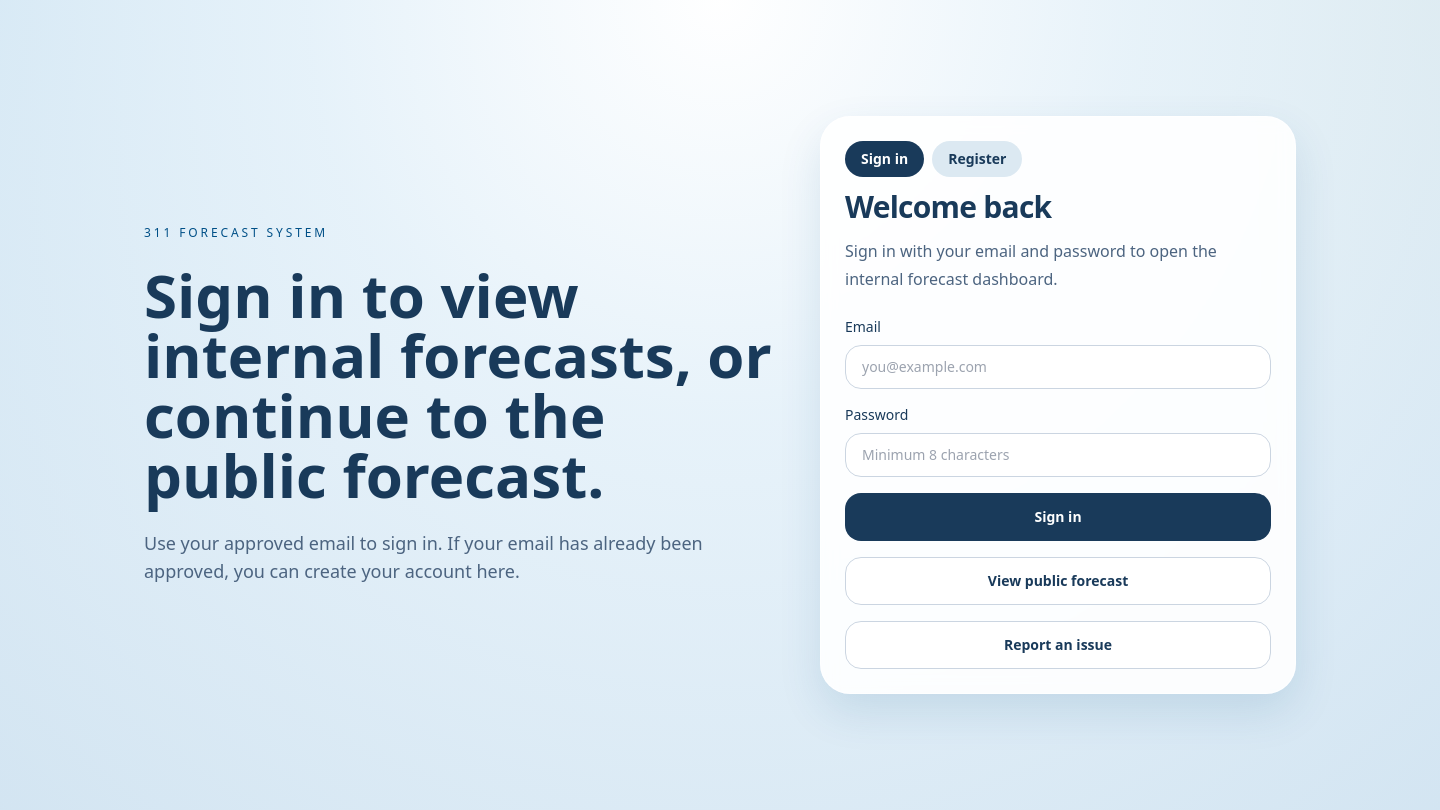
Test: App › clears auth errors when switching between sign in and register
The width and height of the screenshot is (1440, 810).
Expected: the heading "Sign in to view internal forecasts" is shown, [144,265,788,505]
In the field with placeholder "you@example.com": (1058, 367) [845,345,1271,389], type "planner@example.com"
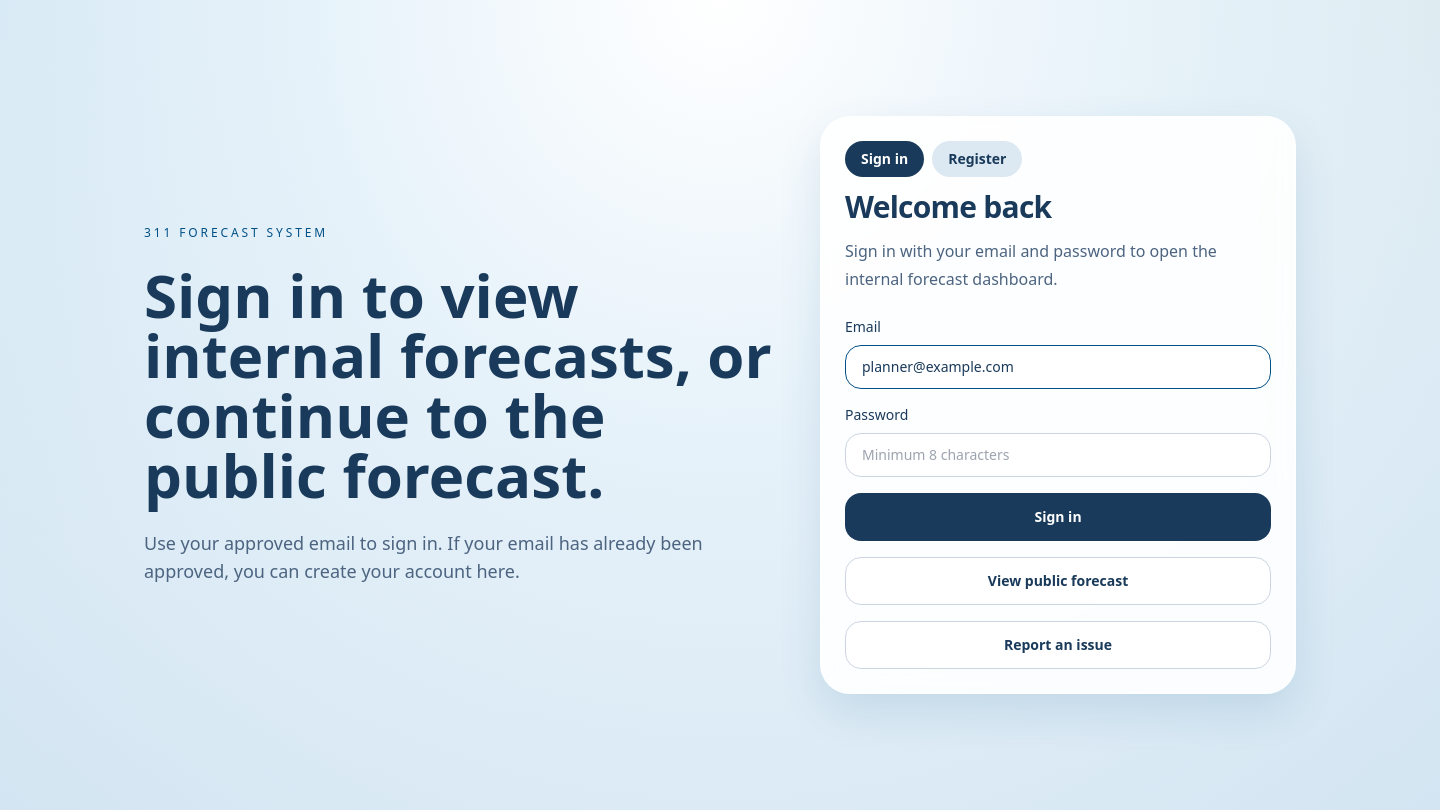
In the password field with placeholder "Minimum 8 characters": (1058, 455) [845,433,1271,477], type "short"
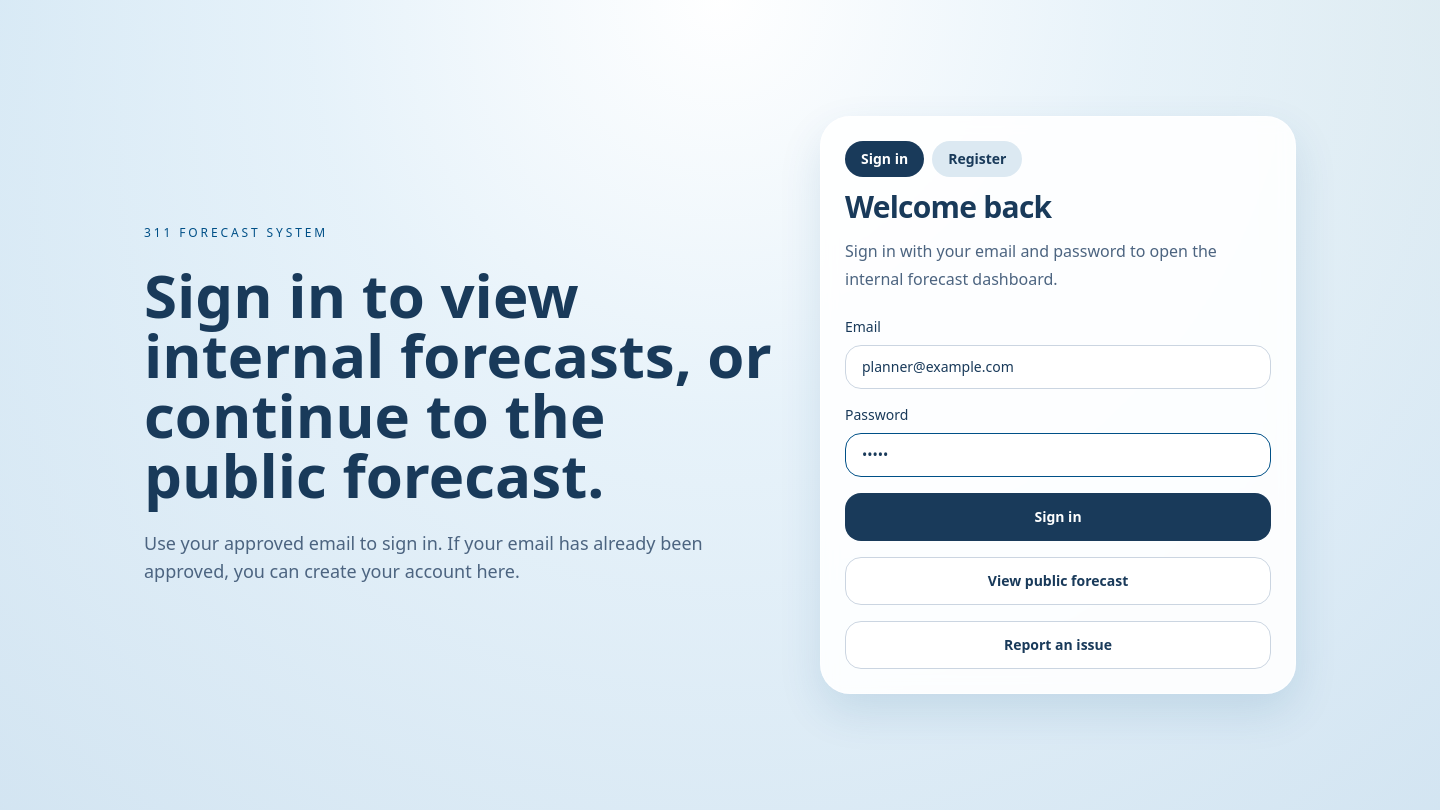
Click the 2nd button "Sign in": (1058, 517) [845,493,1271,541]
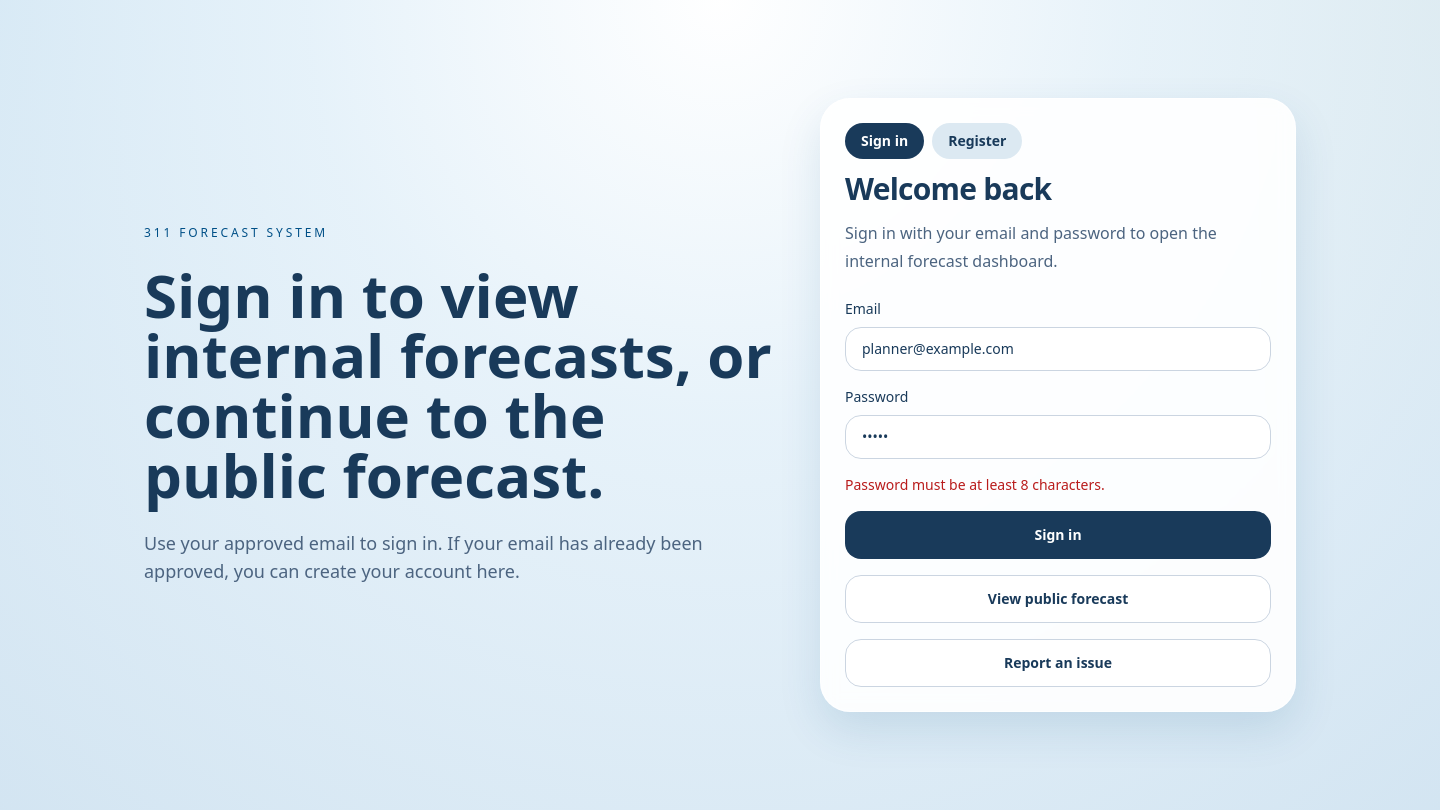
Expected: the text "Password must be at least 8 characters." is shown, [845,475,1105,494]
Click the button "Register": (977, 141) [932,123,1022,159]
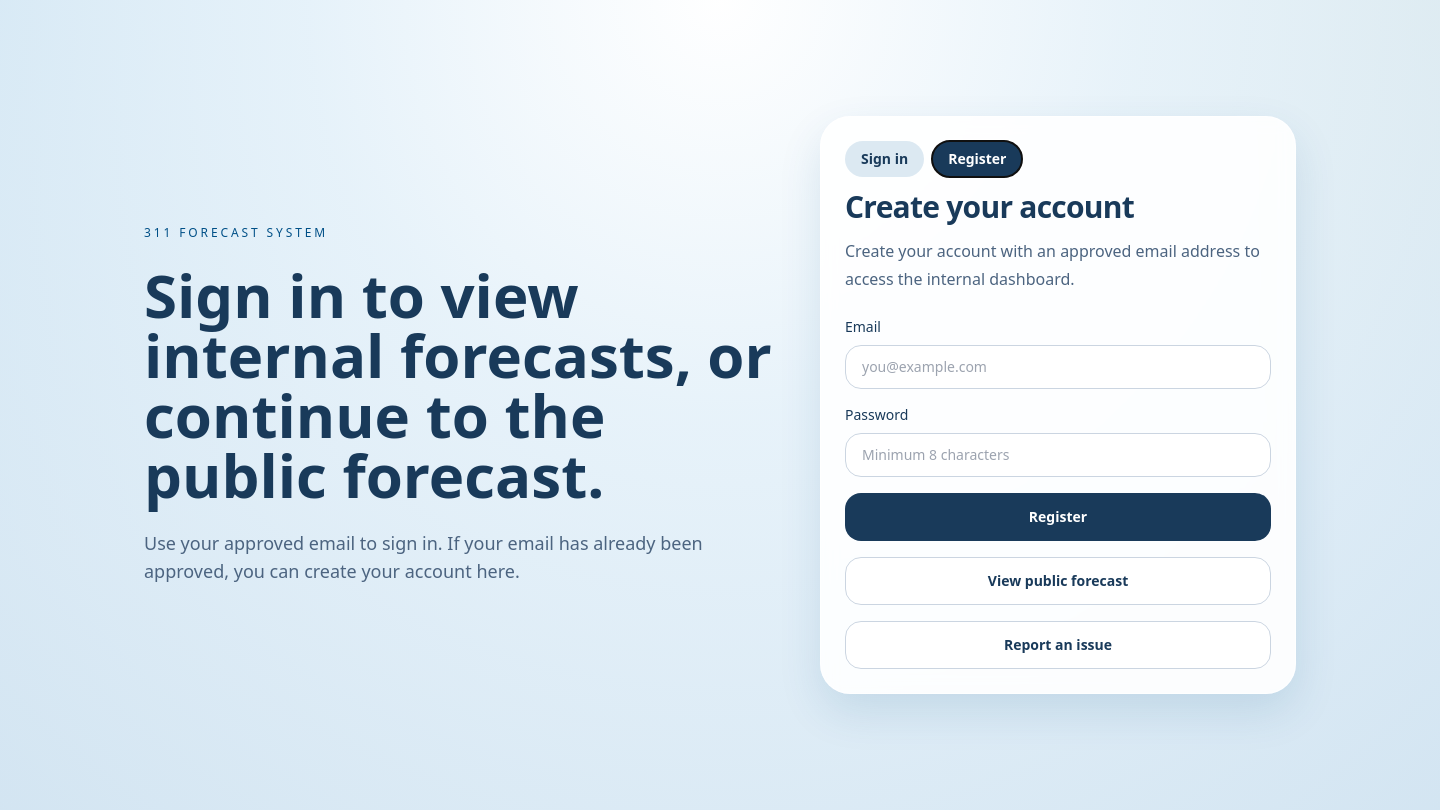
Expected: the text "Password must be at least 8 characters." is gone
